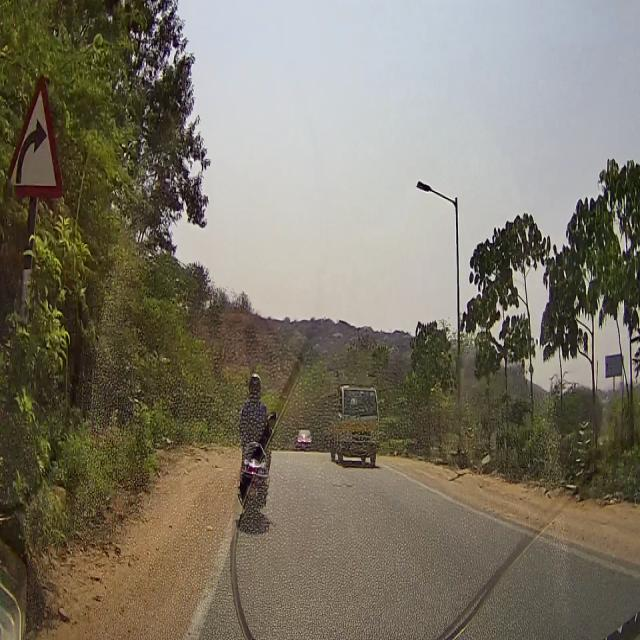right-hand-curve: (7, 70, 68, 202)
